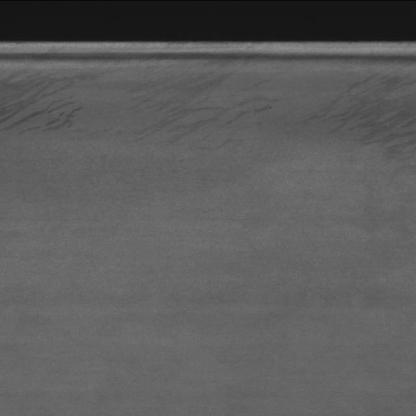water_spot: (8, 72, 407, 164)
